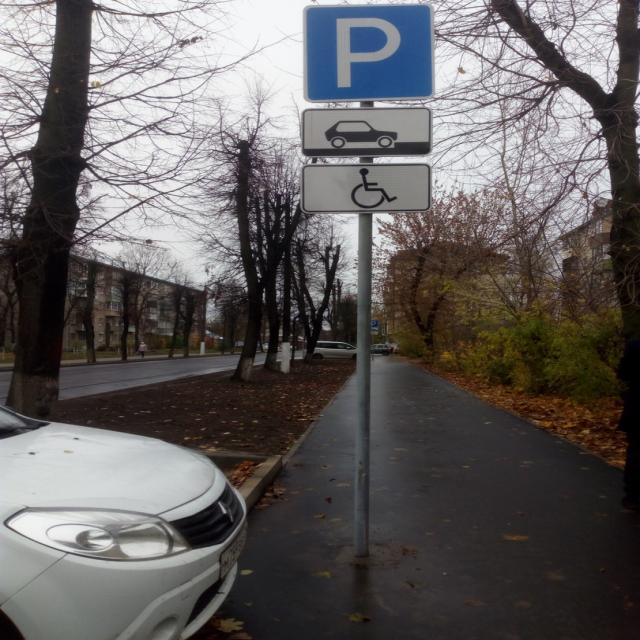parking: (296, 3, 441, 105)
